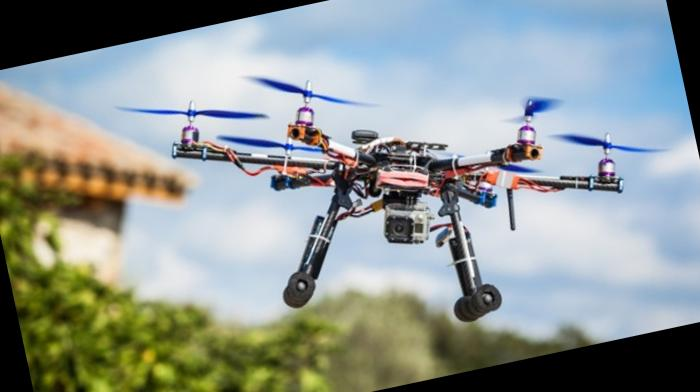drone: (113, 0, 671, 307)
